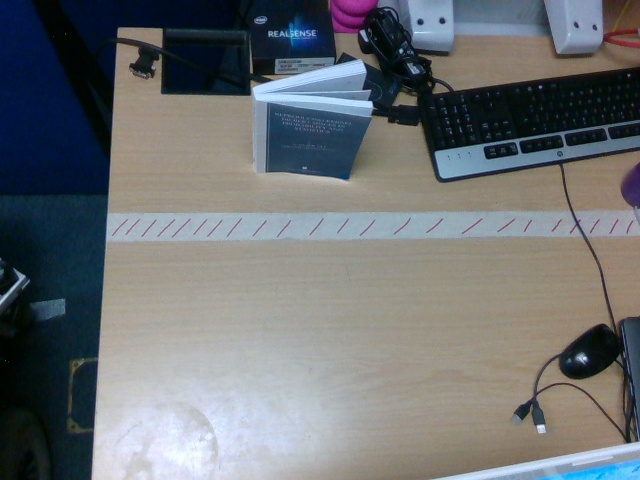book: (254, 58, 373, 181)
